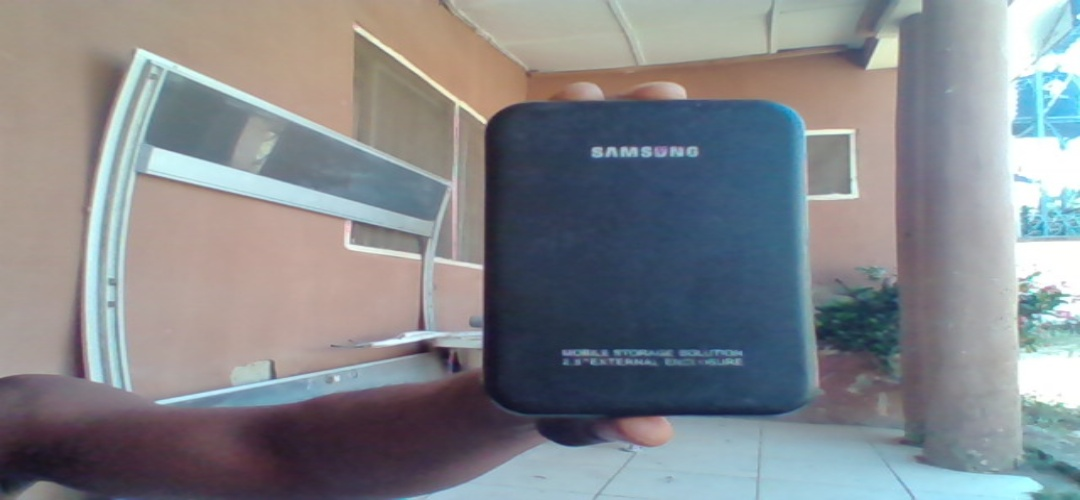hard_disk_case: (484, 102, 820, 418)
